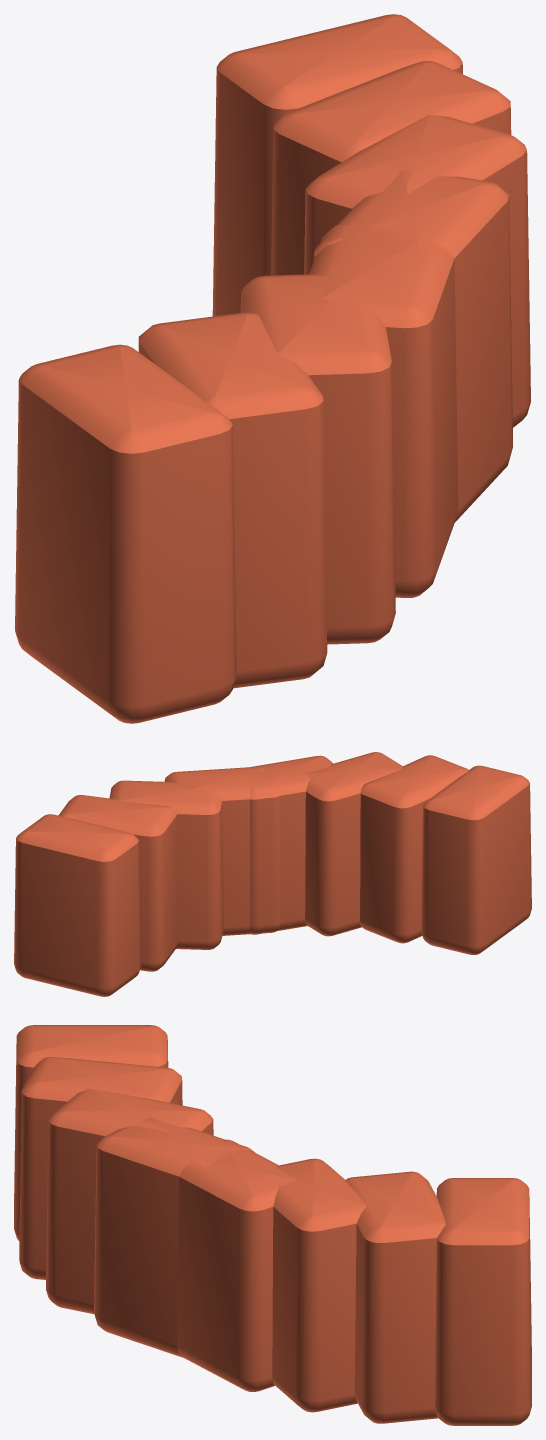
Rendered from motorcycle-racing-and-street-bikes-air-fence-corner-17dc8e68__15447.glb.
3 views of the same model, one above another, from view 1: azimuth 30°, elevation 25°; view 2: azimuth 150°, elevation 25°; view 3: azimuth 270°, elevation 25° (orthographic). The views are drawn at different scales.
Parts seen in each view (by area): view 1: air-fence-corner; view 2: air-fence-corner; view 3: air-fence-corner.
Part boxes in pixels (bbox=[...]): air-fence-corner: bbox=[15, 14, 530, 723]; air-fence-corner: bbox=[14, 752, 531, 996]; air-fence-corner: bbox=[14, 1025, 531, 1425].
Bounding box in the file's own units: 2.65 × 1.1 × 2.65.
